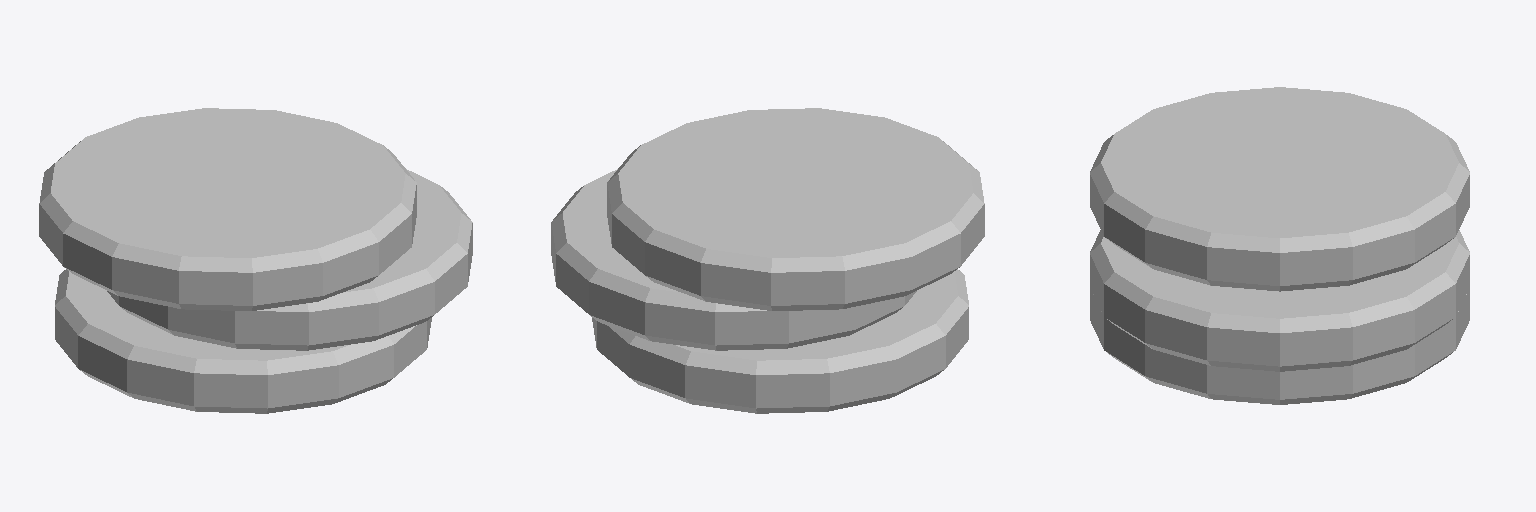
File: food_ingredient_tomato_slices.obj
3 views of the same model, side by side, from view 1: azimuth 30°, elevation 25°; view 2: azimuth 150°, elevation 25°; view 3: azimuth 270°, elevation 25° (orthographic).
Visible parts, largest first — view 1: food_ingredient_tomato_slices_Sphere.001; view 2: food_ingredient_tomato_slices_Sphere.001; view 3: food_ingredient_tomato_slices_Sphere.001.
Boxes of the visible parts, box(x1,y1,x2,y2) form: food_ingredient_tomato_slices_Sphere.001: box(39, 108, 472, 413); food_ingredient_tomato_slices_Sphere.001: box(551, 108, 984, 413); food_ingredient_tomato_slices_Sphere.001: box(1090, 87, 1469, 404).
Bounding box in the file's own units: 0.76 × 0.3 × 0.65.